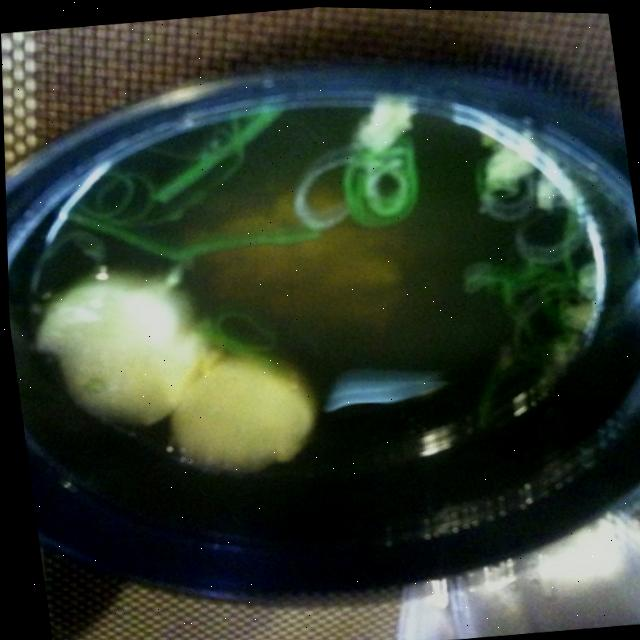汤锅炖物: (2, 37, 640, 601)
